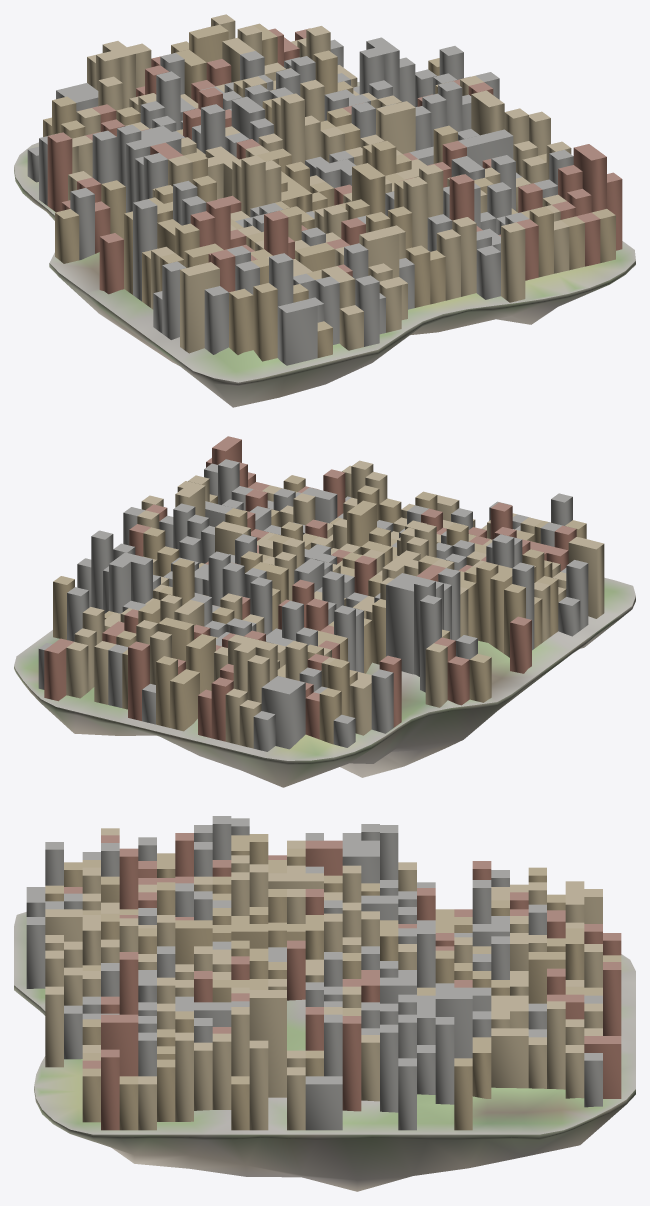
Rendered from SKY-076.lod1.glb.
The picture shows the model from 3 angles, top to bottom: view 1: azimuth 30°, elevation 25°; view 2: azimuth 150°, elevation 25°; view 3: azimuth 270°, elevation 25°; orthographic projection. The views are drawn at different scales.
Parts seen in each view (by area): view 1: warren_hull, deck, rock; view 2: warren_hull, rock, deck; view 3: warren_hull, rock, deck.
Part boxes in pixels (left/top/right/bottom): warren_hull: left=27, top=14, right=622, bottom=365; deck: left=14, top=82, right=635, bottom=382; rock: left=14, top=167, right=635, bottom=407; warren_hull: left=38, top=436, right=604, bottom=751; rock: left=14, top=596, right=635, bottom=787; deck: left=14, top=577, right=635, bottom=760; warren_hull: left=26, top=816, right=621, bottom=1130; rock: left=14, top=985, right=635, bottom=1191; deck: left=14, top=912, right=635, bottom=1134.
Size of the model in its own units: 176 by 98.63 by 201.
